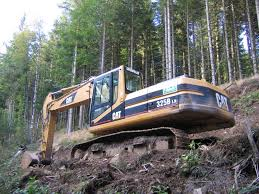excavator: (21, 60, 238, 170)
